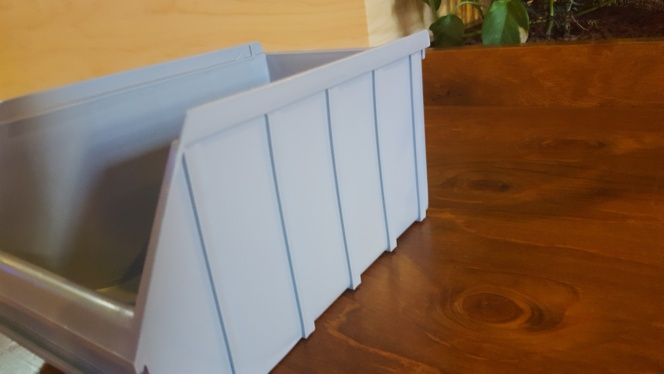tray_front: (1, 94, 188, 374)
tray_right: (133, 18, 431, 374)
